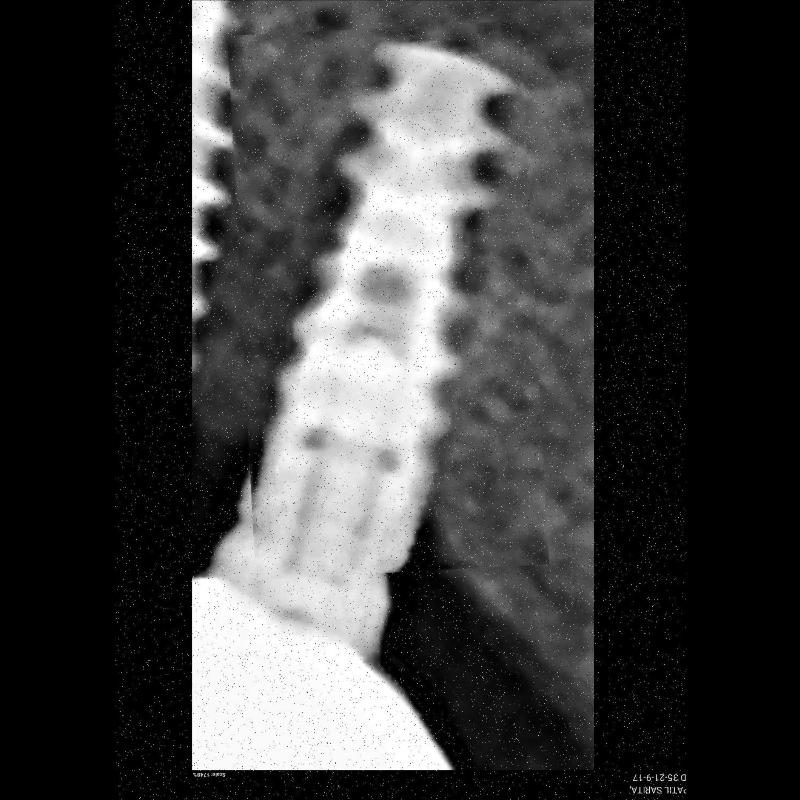NORIS: (234, 24, 542, 576)
